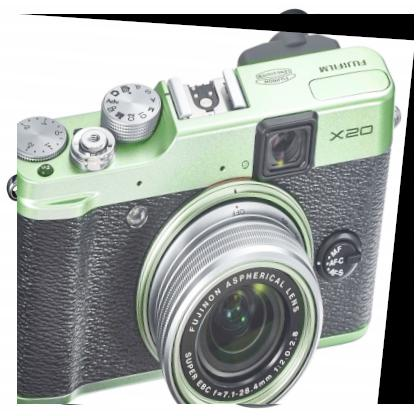Camera: (18, 15, 416, 406)
